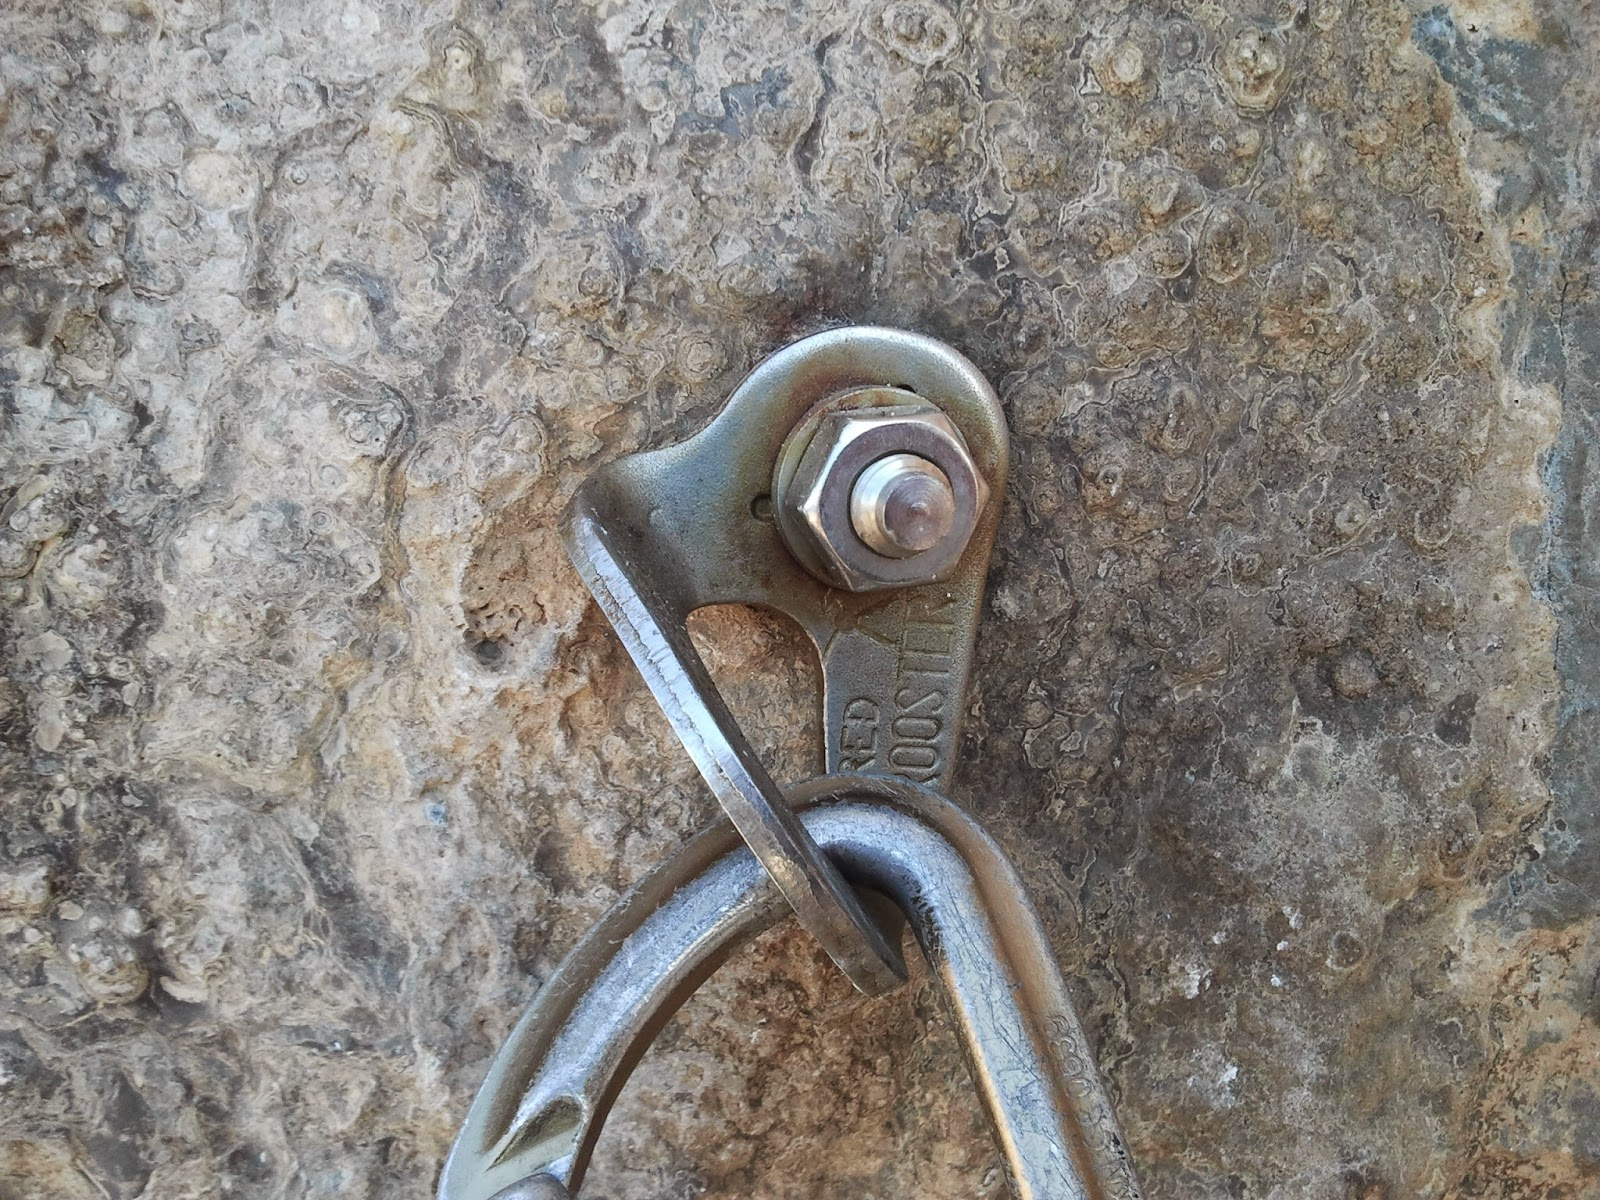bolt: (765, 376, 994, 603)
